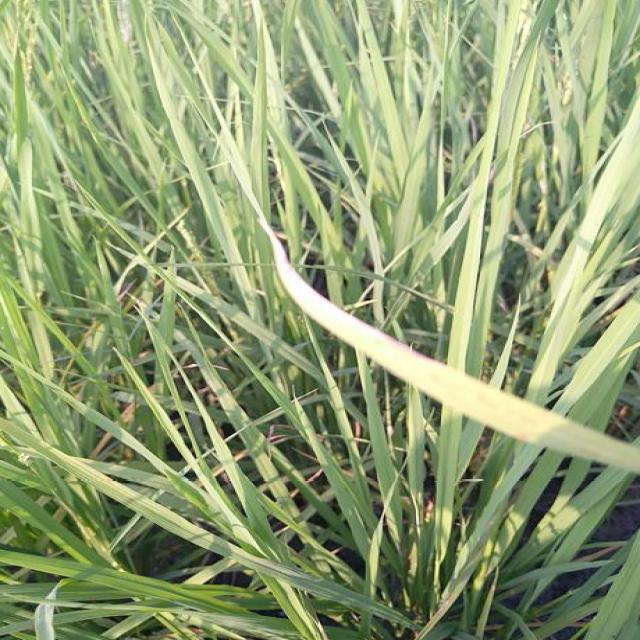Leaf Blight: (256, 219, 640, 487)
